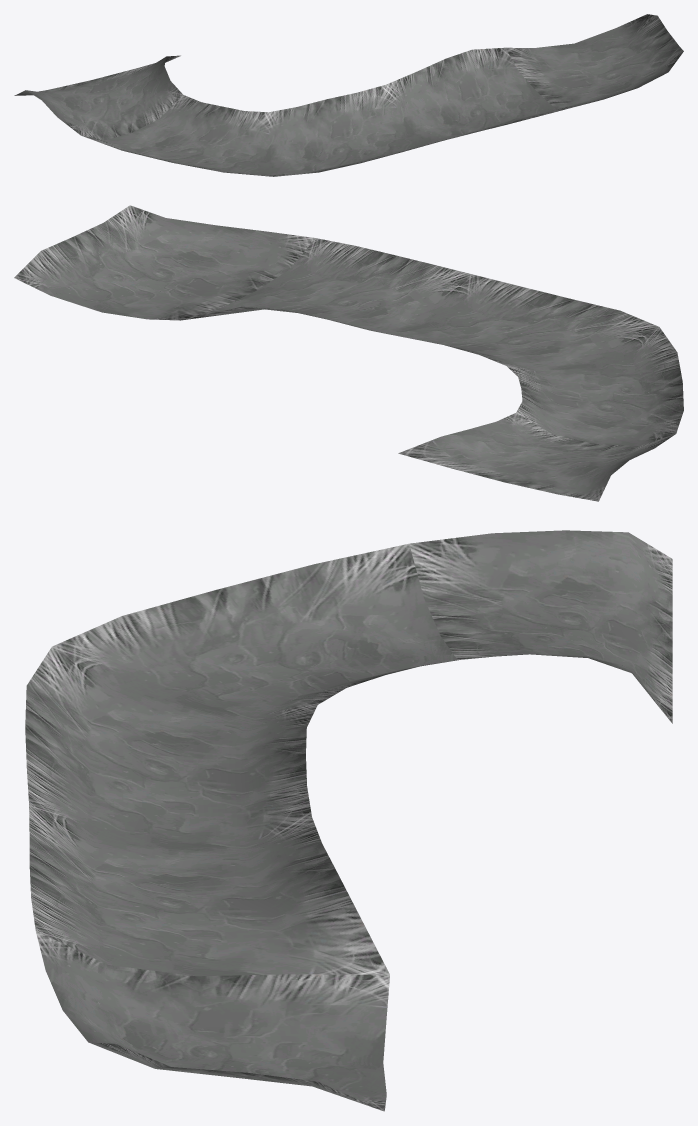
File: SWORDLIGHT20_PS-AREA01_11.fbx
The picture shows the model from 3 angles, top to bottom: view 1: azimuth 30°, elevation 25°; view 2: azimuth 150°, elevation 25°; view 3: azimuth 270°, elevation 25°; orthographic projection. The views are drawn at different scales.
Visible parts, largest first — view 1: SWORDLIGHT20_PS-AREA01_11; view 2: SWORDLIGHT20_PS-AREA01_11; view 3: SWORDLIGHT20_PS-AREA01_11.
Boxes of the visible parts, box(x1,y1,x2,y2) form: SWORDLIGHT20_PS-AREA01_11: box(14, 14, 683, 176); SWORDLIGHT20_PS-AREA01_11: box(14, 205, 683, 501); SWORDLIGHT20_PS-AREA01_11: box(25, 530, 672, 1111).
Bounding box in the file's own units: 173545 × 9072 × 86434.
Materials: 2 (2 with a texture image).
